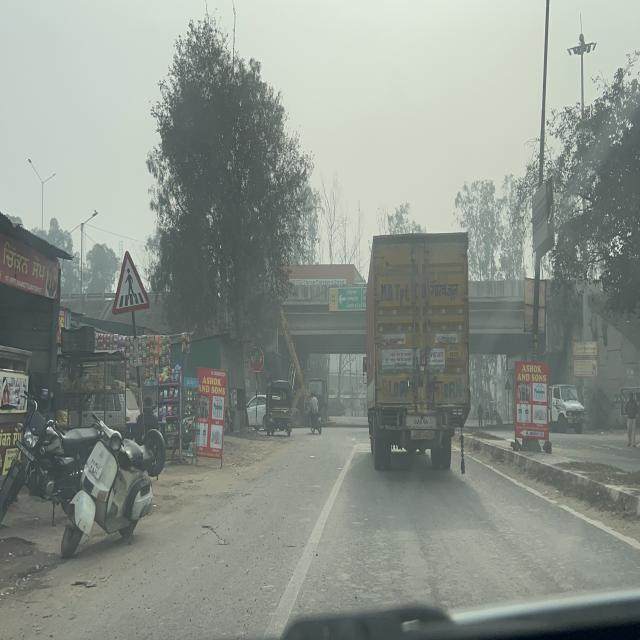GENERAL: (329, 287, 366, 311)
PEDESTRIAN_CROSSING: (112, 251, 150, 316)
STOP: (249, 344, 264, 372)
